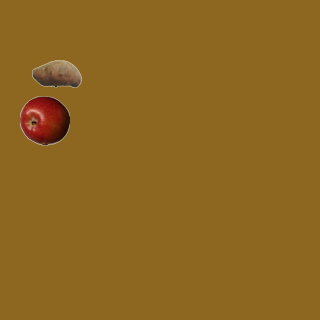Apple Braeburn: (19, 95, 69, 145)
Potato Sweet: (31, 48, 81, 98)
